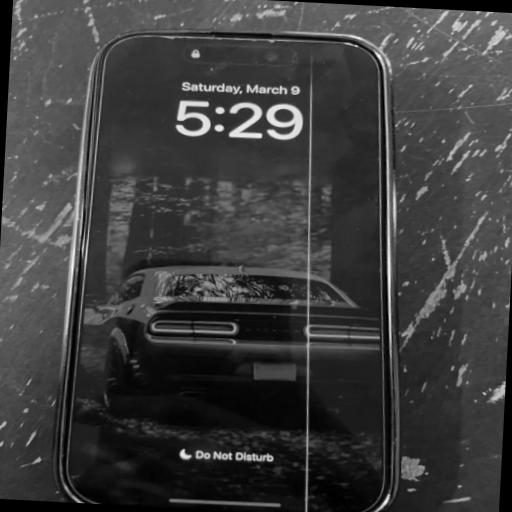phone: (54, 25, 406, 512)
